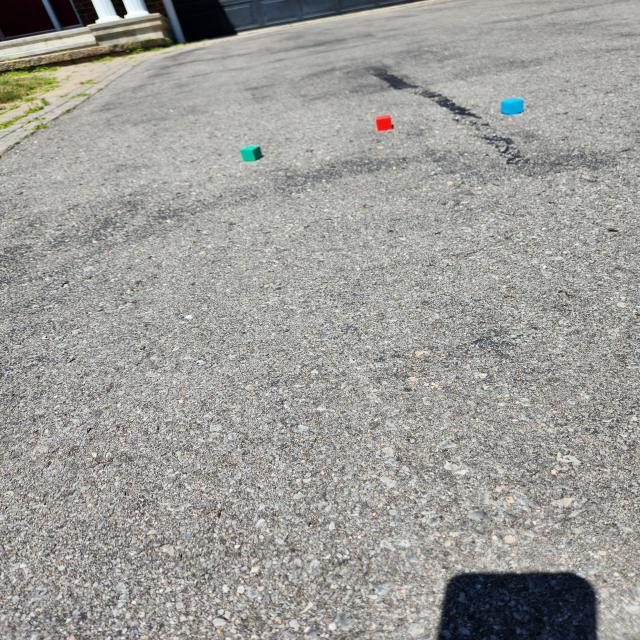bluecube: (499, 96, 524, 115)
green cube: (240, 144, 263, 161)
red cube: (376, 113, 393, 132)
